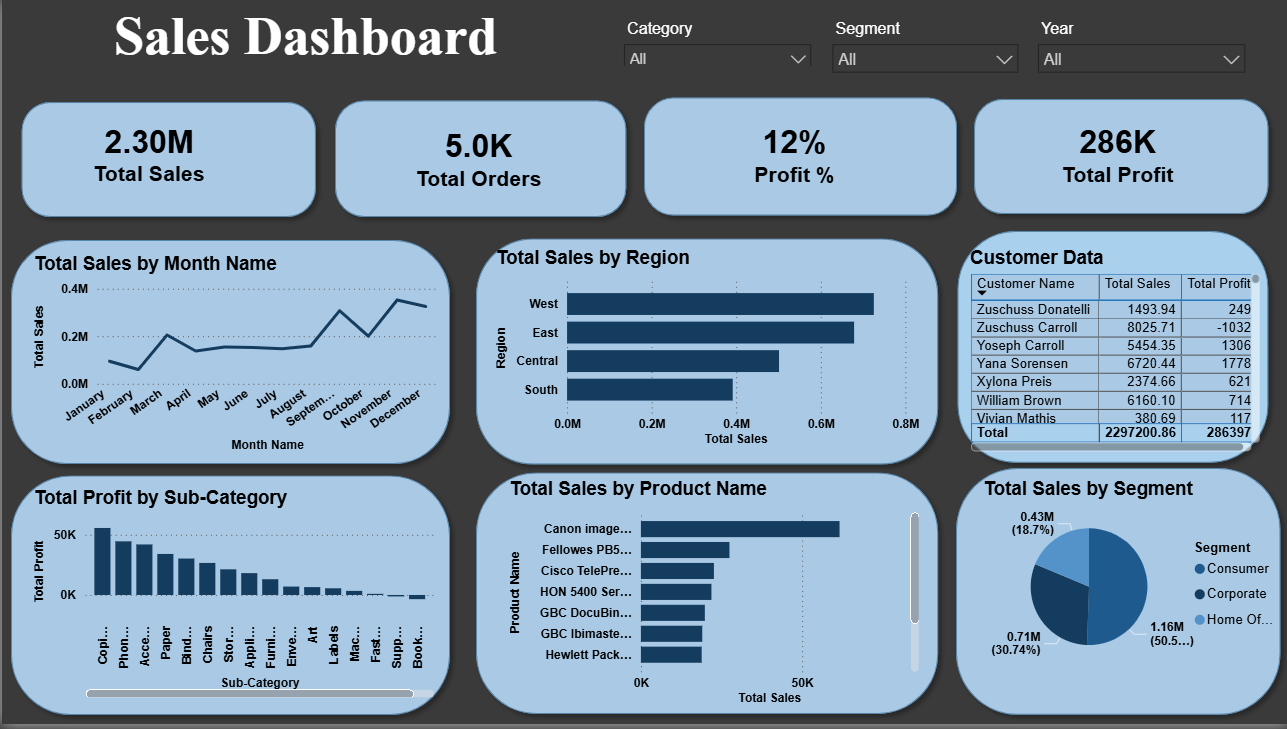

This screenshot's page, from the dashboard's own definition file:
{"tool":"powerbi","page":{"name":"Sales Dashboard","canvas":[1280,720],"ordinal":0},"visuals":[{"type":"group","id":"g1","title":"Background","box":[0,87.9,1281,632.1],"z":0},{"type":"shape","box":[0,230.4,454.5,240.7],"z":0,"group":"g1"},{"type":"textbox","box":[9.4,0,585.8,79.4],"z":1000},{"type":"shape","box":[462.2,228.4,477.6,242.7],"z":1000,"group":"g1"},{"type":"cardVisual","fields":{"Data":["Sample - Superstore.Total Sales"]},"box":[44.6,104.6,201.5,98.5],"z":2000},{"type":"shape","box":[941.8,220.3,327.1,248.3],"z":2000,"group":"g1"},{"type":"cardVisual","fields":{"Data":["Sample - Superstore.Total Orders"]},"box":[361.5,107.7,226.2,103.1],"z":3000},{"type":"shape","box":[462.2,461.5,477.6,258.1],"z":3000,"group":"g1"},{"type":"cardVisual","fields":{"Data":["Sample - Superstore.Profit %"]},"box":[666.2,106.2,243.1,98.5],"z":4000},{"type":"shape","box":[0,463.4,454.5,256.1],"z":4000,"group":"g1"},{"type":"cardVisual","fields":{"Data":["Sample - Superstore.Total Profit"]},"box":[986.2,106.2,247.7,98.5],"z":5000},{"type":"shape","box":[940.3,456.5,340.7,263.5],"z":5000,"group":"g1"},{"type":"shape","box":[958.5,89.5,310.8,132.3],"z":6000,"group":"g1"},{"type":"lineChart","fields":{"Category":["Sample - Superstore.Month Name"],"Y":["Sample - Superstore.Total Sales"]},"box":[26.2,252.3,410.8,201.5],"z":6000},{"type":"shape","box":[629.2,87.9,329.2,135.4],"z":7000,"group":"g1"},{"type":"clusteredBarChart","fields":{"Category":["Sample - Superstore.Region"],"Y":["Sample - Superstore.Total Sales"]},"box":[486.2,246.2,430.8,201.5],"z":7000},{"type":"shape","box":[321.5,90.9,307.7,133.8],"z":8000,"group":"g1"},{"type":"clusteredColumnChart","fields":{"Category":["Sample - Superstore.Sub-Category"],"Y":["Sample - Superstore.Total Profit"]},"box":[26.2,484.6,407.7,213.8],"z":8000},{"type":"shape","box":[10.8,92.3,310.8,132.3],"z":9000,"group":"g1"},{"type":"clusteredBarChart","fields":{"Category":["Sample - Superstore.Product Name"],"Y":["Sample - Superstore.Total Sales"]},"box":[500,475.4,416.9,229.2],"z":9000},{"type":"tableEx","title":"Customer Data","fields":{"Values":["Sample - Superstore.Customer Name","Sample - Superstore.Total Sales","Sample - Superstore.Total Profit"]},"box":[958.5,246.2,298.5,207.7],"z":10000},{"type":"pieChart","fields":{"Category":["Sample - Superstore.Segment"],"Y":["Sample - Superstore.Total Sales"]},"box":[970.8,475.4,309.2,193.8],"z":11000},{"type":"slicer","fields":{"Values":["Sample - Superstore.Category"]},"box":[609.2,13.8,206.2,52.3],"z":12000},{"type":"slicer","fields":{"Values":["Sample - Superstore.Segment"]},"box":[815.4,13.8,204.6,61.5],"z":13000},{"type":"slicer","fields":{"Values":["Sample - Superstore.Year"]},"box":[1020,13.8,226.2,66.2],"z":14000}]}

Visuals, with their boxes in screenshot pixels (x1, y1, x2, y2), scaled from the page's 1280x720 canvas onto the 1287x729 screenshot:
"Background" group: bbox(0, 89, 1286, 728)
shape: bbox(0, 233, 457, 477)
textbox: bbox(9, 0, 598, 80)
shape: bbox(465, 231, 945, 477)
cardVisual - Sample - Superstore.Total Sales: bbox(45, 106, 247, 206)
shape: bbox(947, 223, 1276, 474)
cardVisual - Sample - Superstore.Total Orders: bbox(363, 109, 591, 213)
shape: bbox(465, 467, 945, 728)
cardVisual - Sample - Superstore.Profit %: bbox(670, 108, 914, 207)
shape: bbox(0, 469, 457, 728)
cardVisual - Sample - Superstore.Total Profit: bbox(992, 108, 1241, 207)
shape: bbox(945, 462, 1286, 728)
shape: bbox(964, 91, 1276, 225)
lineChart - Sample - Superstore.Month Name x Sample - Superstore.Total Sales: bbox(26, 255, 439, 459)
shape: bbox(633, 89, 964, 226)
clusteredBarChart - Sample - Superstore.Region x Sample - Superstore.Total Sales: bbox(489, 249, 922, 453)
shape: bbox(323, 92, 633, 228)
clusteredColumnChart - Sample - Superstore.Sub-Category x Sample - Superstore.Total Profit: bbox(26, 491, 436, 707)
shape: bbox(11, 93, 323, 227)
clusteredBarChart - Sample - Superstore.Product Name x Sample - Superstore.Total Sales: bbox(503, 481, 922, 713)
"Customer Data" tableEx: bbox(964, 249, 1264, 460)
pieChart - Sample - Superstore.Segment x Sample - Superstore.Total Sales: bbox(976, 481, 1286, 678)
slicer - Sample - Superstore.Category: bbox(613, 14, 820, 67)
slicer - Sample - Superstore.Segment: bbox(820, 14, 1026, 76)
slicer - Sample - Superstore.Year: bbox(1026, 14, 1253, 81)
